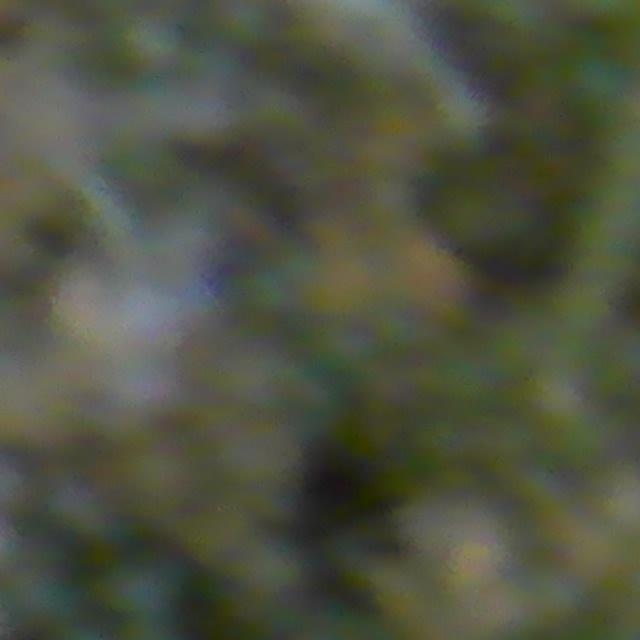SeaGrape: (103, 556, 180, 624), (564, 47, 635, 117), (210, 0, 283, 50)
